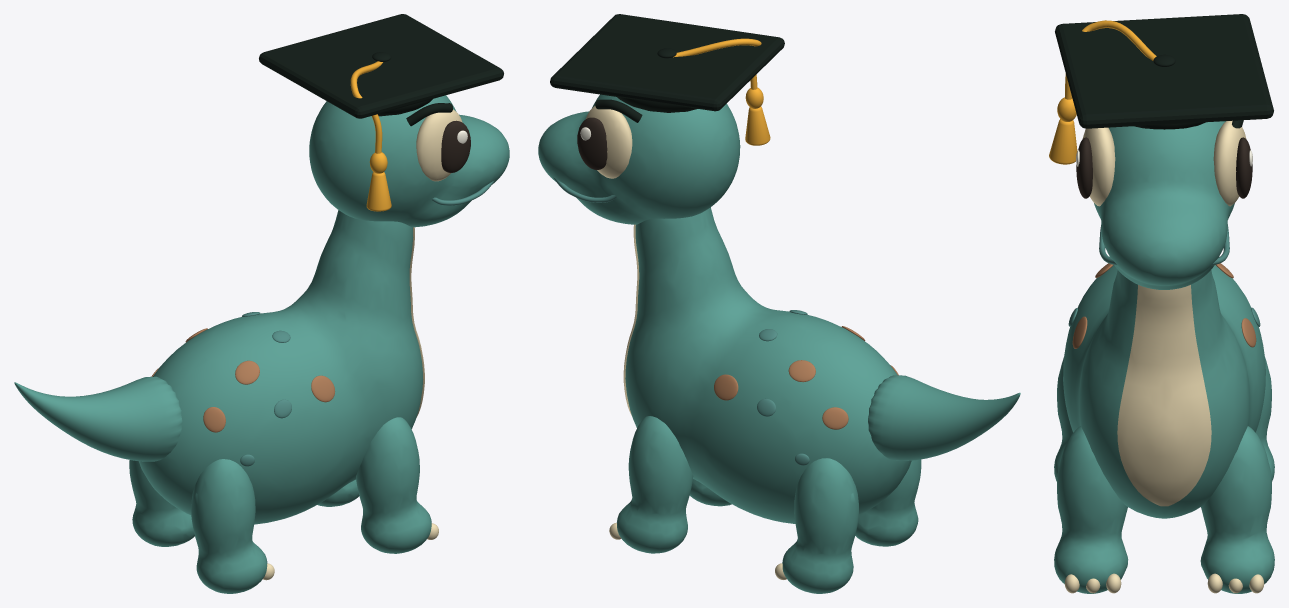
File: cdutdino-guide.glb
The picture shows the model from 3 angles, left to right: view 1: azimuth 30°, elevation 25°; view 2: azimuth 150°, elevation 25°; view 3: azimuth 270°, elevation 25°; orthographic projection. The views are drawn at different scales.
Visible parts, largest first — view 1: body sculpt, head sculpt, square academic cap, tapered tail, soft leg.002, soft leg, soft leg.003, ivory eye, eye pupil, gold tassel, gold cord; view 2: body sculpt, head sculpt, square academic cap, tapered tail, soft leg.003, soft leg.001, soft leg.002, ivory eye.001, eye pupil.001, gold tassel, gold cord; view 3: body sculpt, square academic cap, head sculpt, ivory throat, soft leg, soft leg.001, ivory eye.001, ivory eye, gold tassel, soft leg.002, soft leg.003, eye pupil.001 (+6 smaller).
Boxes of the visible parts, x1,y1,x2,y2 form: body sculpt: (139, 210, 423, 524); head sculpt: (309, 95, 509, 227); square academic cap: (259, 14, 503, 118); tapered tail: (14, 376, 182, 461); soft leg.002: (191, 459, 267, 593); soft leg: (356, 417, 431, 553); soft leg.003: (129, 460, 194, 546); ivory eye: (416, 109, 462, 181); eye pupil: (441, 120, 470, 172); gold tassel: (366, 172, 391, 211); gold cord: (350, 61, 382, 153); body sculpt: (625, 207, 911, 523); head sculpt: (538, 94, 740, 224); square academic cap: (550, 14, 784, 111); tapered tail: (868, 375, 1020, 460); soft leg.003: (782, 458, 858, 593); soft leg.001: (616, 416, 693, 553); soft leg.002: (855, 459, 921, 546); ivory eye.001: (586, 106, 632, 178); eye pupil.001: (577, 117, 607, 169); gold tassel: (745, 106, 770, 145); gold cord: (673, 38, 761, 89); body sculpt: (1063, 265, 1265, 518); square academic cap: (1055, 14, 1273, 128); head sculpt: (1094, 121, 1234, 289); ivory throat: (1117, 285, 1211, 506); soft leg: (1054, 426, 1128, 593); soft leg.001: (1200, 426, 1274, 593); ivory eye.001: (1213, 120, 1246, 206); ivory eye: (1082, 127, 1115, 206); gold tassel: (1049, 119, 1077, 164); soft leg.002: (1054, 356, 1073, 481); soft leg.003: (1255, 357, 1274, 481); eye pupil.001: (1236, 137, 1252, 198).
Size of the model in its own units: 4.04 by 3.81 by 1.42.
